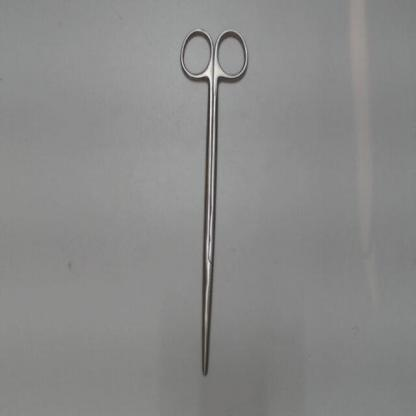9 Metzenbaum Scissors: (176, 20, 252, 380)
